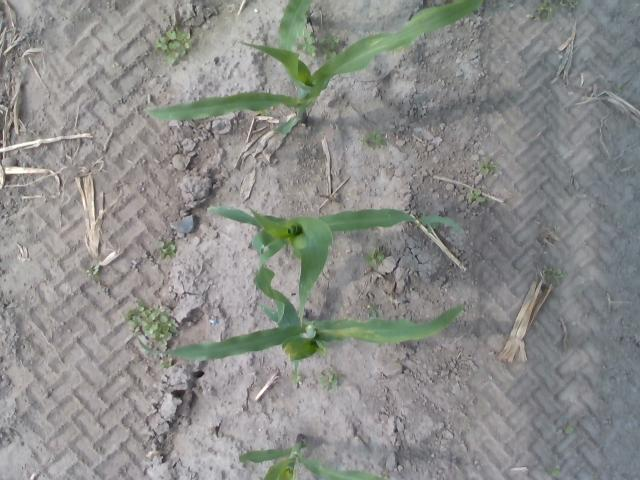Maize: (144, 1, 486, 136), (140, 232, 468, 362), (205, 206, 462, 329), (239, 434, 382, 480), (276, 1, 316, 48)
Weeds: (128, 308, 176, 348), (157, 28, 191, 65), (528, 1, 582, 19), (304, 36, 339, 56), (157, 241, 176, 259), (368, 246, 386, 264), (319, 374, 338, 390), (478, 159, 492, 177), (364, 132, 385, 142), (468, 189, 483, 201), (291, 370, 301, 385), (550, 464, 561, 474), (564, 426, 574, 434), (556, 269, 563, 277), (86, 269, 94, 275), (544, 266, 550, 272)
